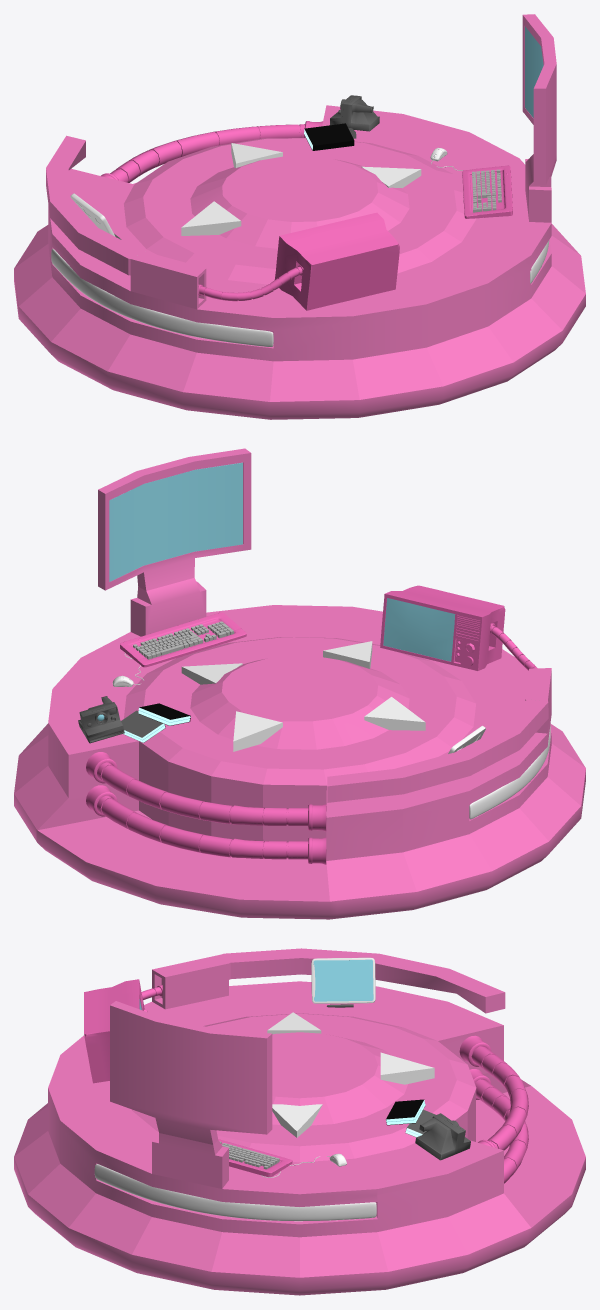
File: socleCompress.gltf
3 renders of one model, top to bottom at view 1: azimuth 30°, elevation 25°; view 2: azimuth 150°, elevation 25°; view 3: azimuth 270°, elevation 25°, orthographic.
Visible parts, largest first — view 1: polySurface85; view 2: polySurface85; view 3: polySurface85.
Part boxes in pixels (x1,y1,x2,y2): polySurface85: (14, 14, 585, 419); polySurface85: (14, 448, 585, 919); polySurface85: (14, 948, 585, 1295).
Bounding box in the file's own units: 5.09 × 2.41 × 5.09.
